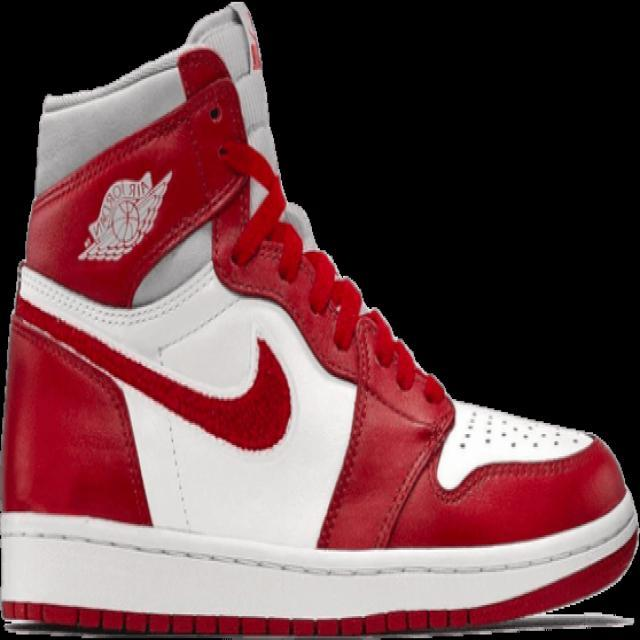J1_InsoleChar: (1, 1, 637, 638)
J1_ShoeLogo: (76, 167, 173, 263)
J1_StitchPattern: (12, 251, 597, 493), (0, 507, 638, 582), (1, 601, 635, 637), (435, 396, 597, 491), (14, 260, 220, 329), (453, 402, 593, 457), (300, 246, 365, 349), (456, 405, 478, 451)
